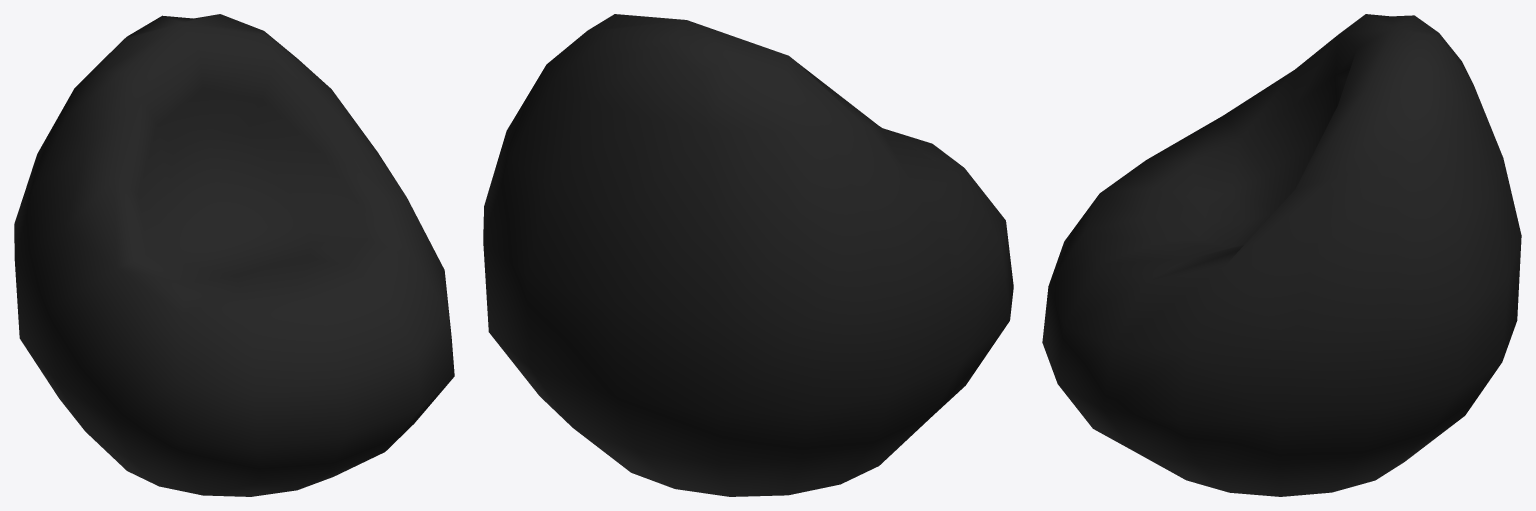
File: chair_049.fbx
The picture shows the model from 3 angles, left to right: view 1: azimuth 30°, elevation 25°; view 2: azimuth 150°, elevation 25°; view 3: azimuth 270°, elevation 25°; orthographic projection. The views are drawn at different scales.
Parts seen in each view (by area): view 1: chair_049; view 2: chair_049; view 3: chair_049.
Boxes of the visible parts, x1,y1,x2,y2 form: chair_049: (14,14,454,496); chair_049: (483,14,1013,496); chair_049: (1042,14,1521,496).
Bounding box in the file's own units: 104 × 113 × 107.
